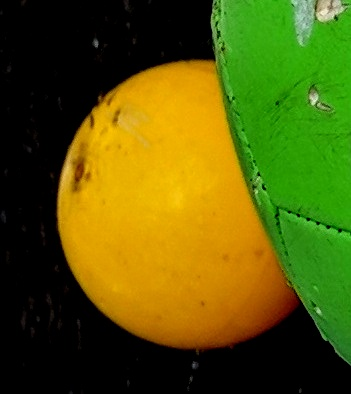ball: (52, 59, 303, 350)
